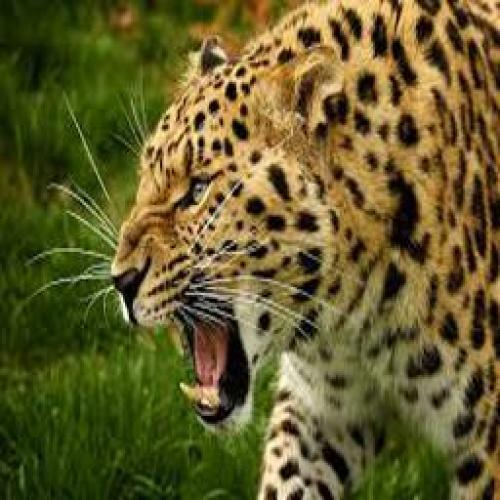amur_leopard-endangered: (113, 1, 500, 443)
